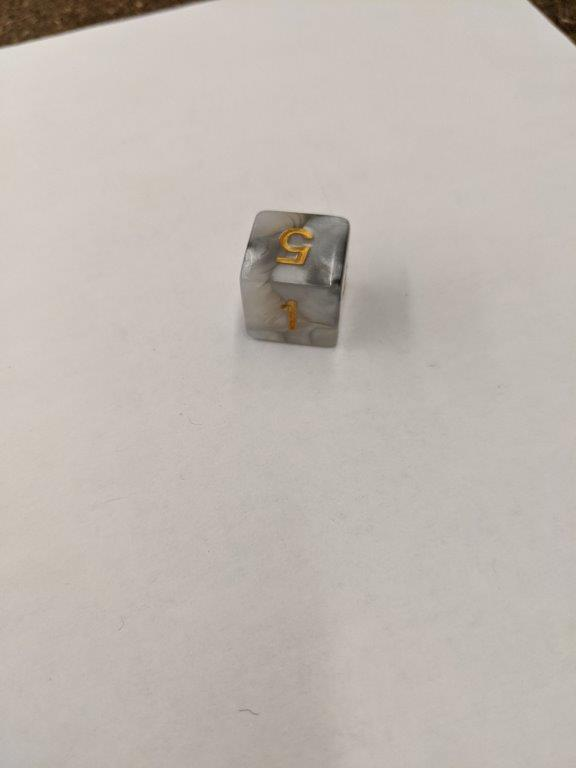d6-5: (239, 207, 351, 349)
